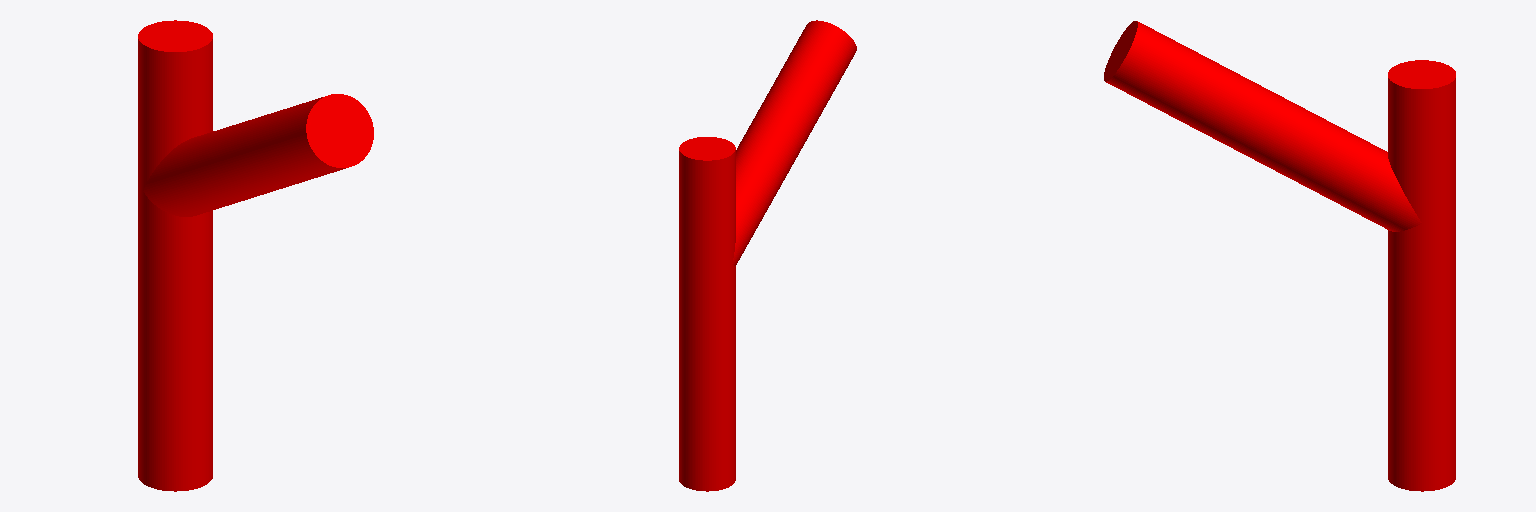
URDF robot description (tree.urdf):
<?xml version="1.0" ?>
<robot name="tree.urdf">
  <link name="baseLink">
    <inertial>
      <origin rpy="0 0 0" xyz="0 0 0"/>
       <mass value=".1"/>
       <inertia ixx="1" ixy="0" ixz="0" iyy="1" iyz="0" izz="1"/>
    </inertial>
    <visual>
      <origin rpy="0 0 0" xyz="0 0 0"/>
      <geometry>
        <mesh filename="1.stl" scale="1 1 1" />
      </geometry>
      <material name="red">
        <color rgba="1 0 0 1"/>
      </material>
    </visual>
    <collision>
      <origin rpy="0 0 0" xyz="0 0 0"/>
      <geometry>
        <mesh filename="1_convex.obj" scale="1 1 1" />
      </geometry>
    </collision>
  </link>
</robot>

--- Facts derived from the render (not from the file) ---
3 views of the same robot in one strip: view 1: azimuth 30°, elevation 25°; view 2: azimuth 150°, elevation 25°; view 3: azimuth 270°, elevation 25° (orthographic).
Model tree.urdf with 1 links and 0 joints (none), rooted at baseLink, posed all joints at 0.
Links seen in each view (by area): view 1: baseLink; view 2: baseLink; view 3: baseLink.
Boxes of the visible links, box(x1,y1,x2,y2) form: baseLink: box(138, 20, 373, 491); baseLink: box(679, 20, 856, 491); baseLink: box(1104, 21, 1455, 491).
Bounding box of the posed robot: 0.0388 × 0.1988 × 0.2815 m (x, y, z).
1 mesh visuals loaded from 1 distinct referenced files (1 binary STL).